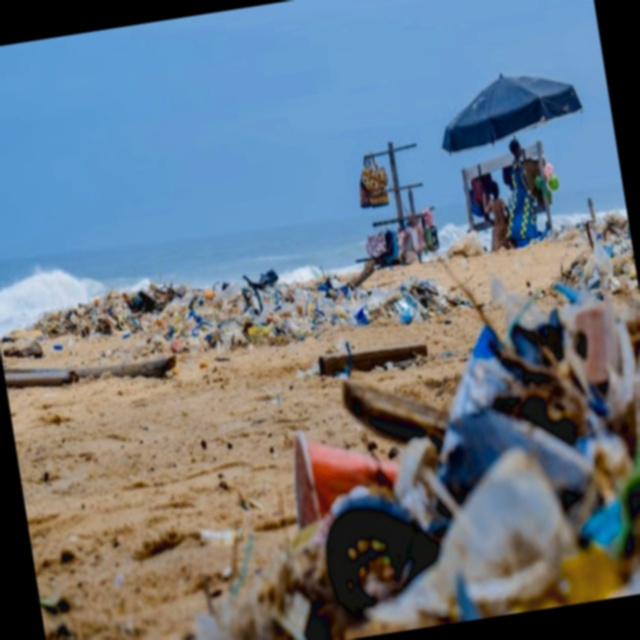contaminated_water: (13, 13, 627, 627)
turbid_water: (0, 201, 640, 640)
